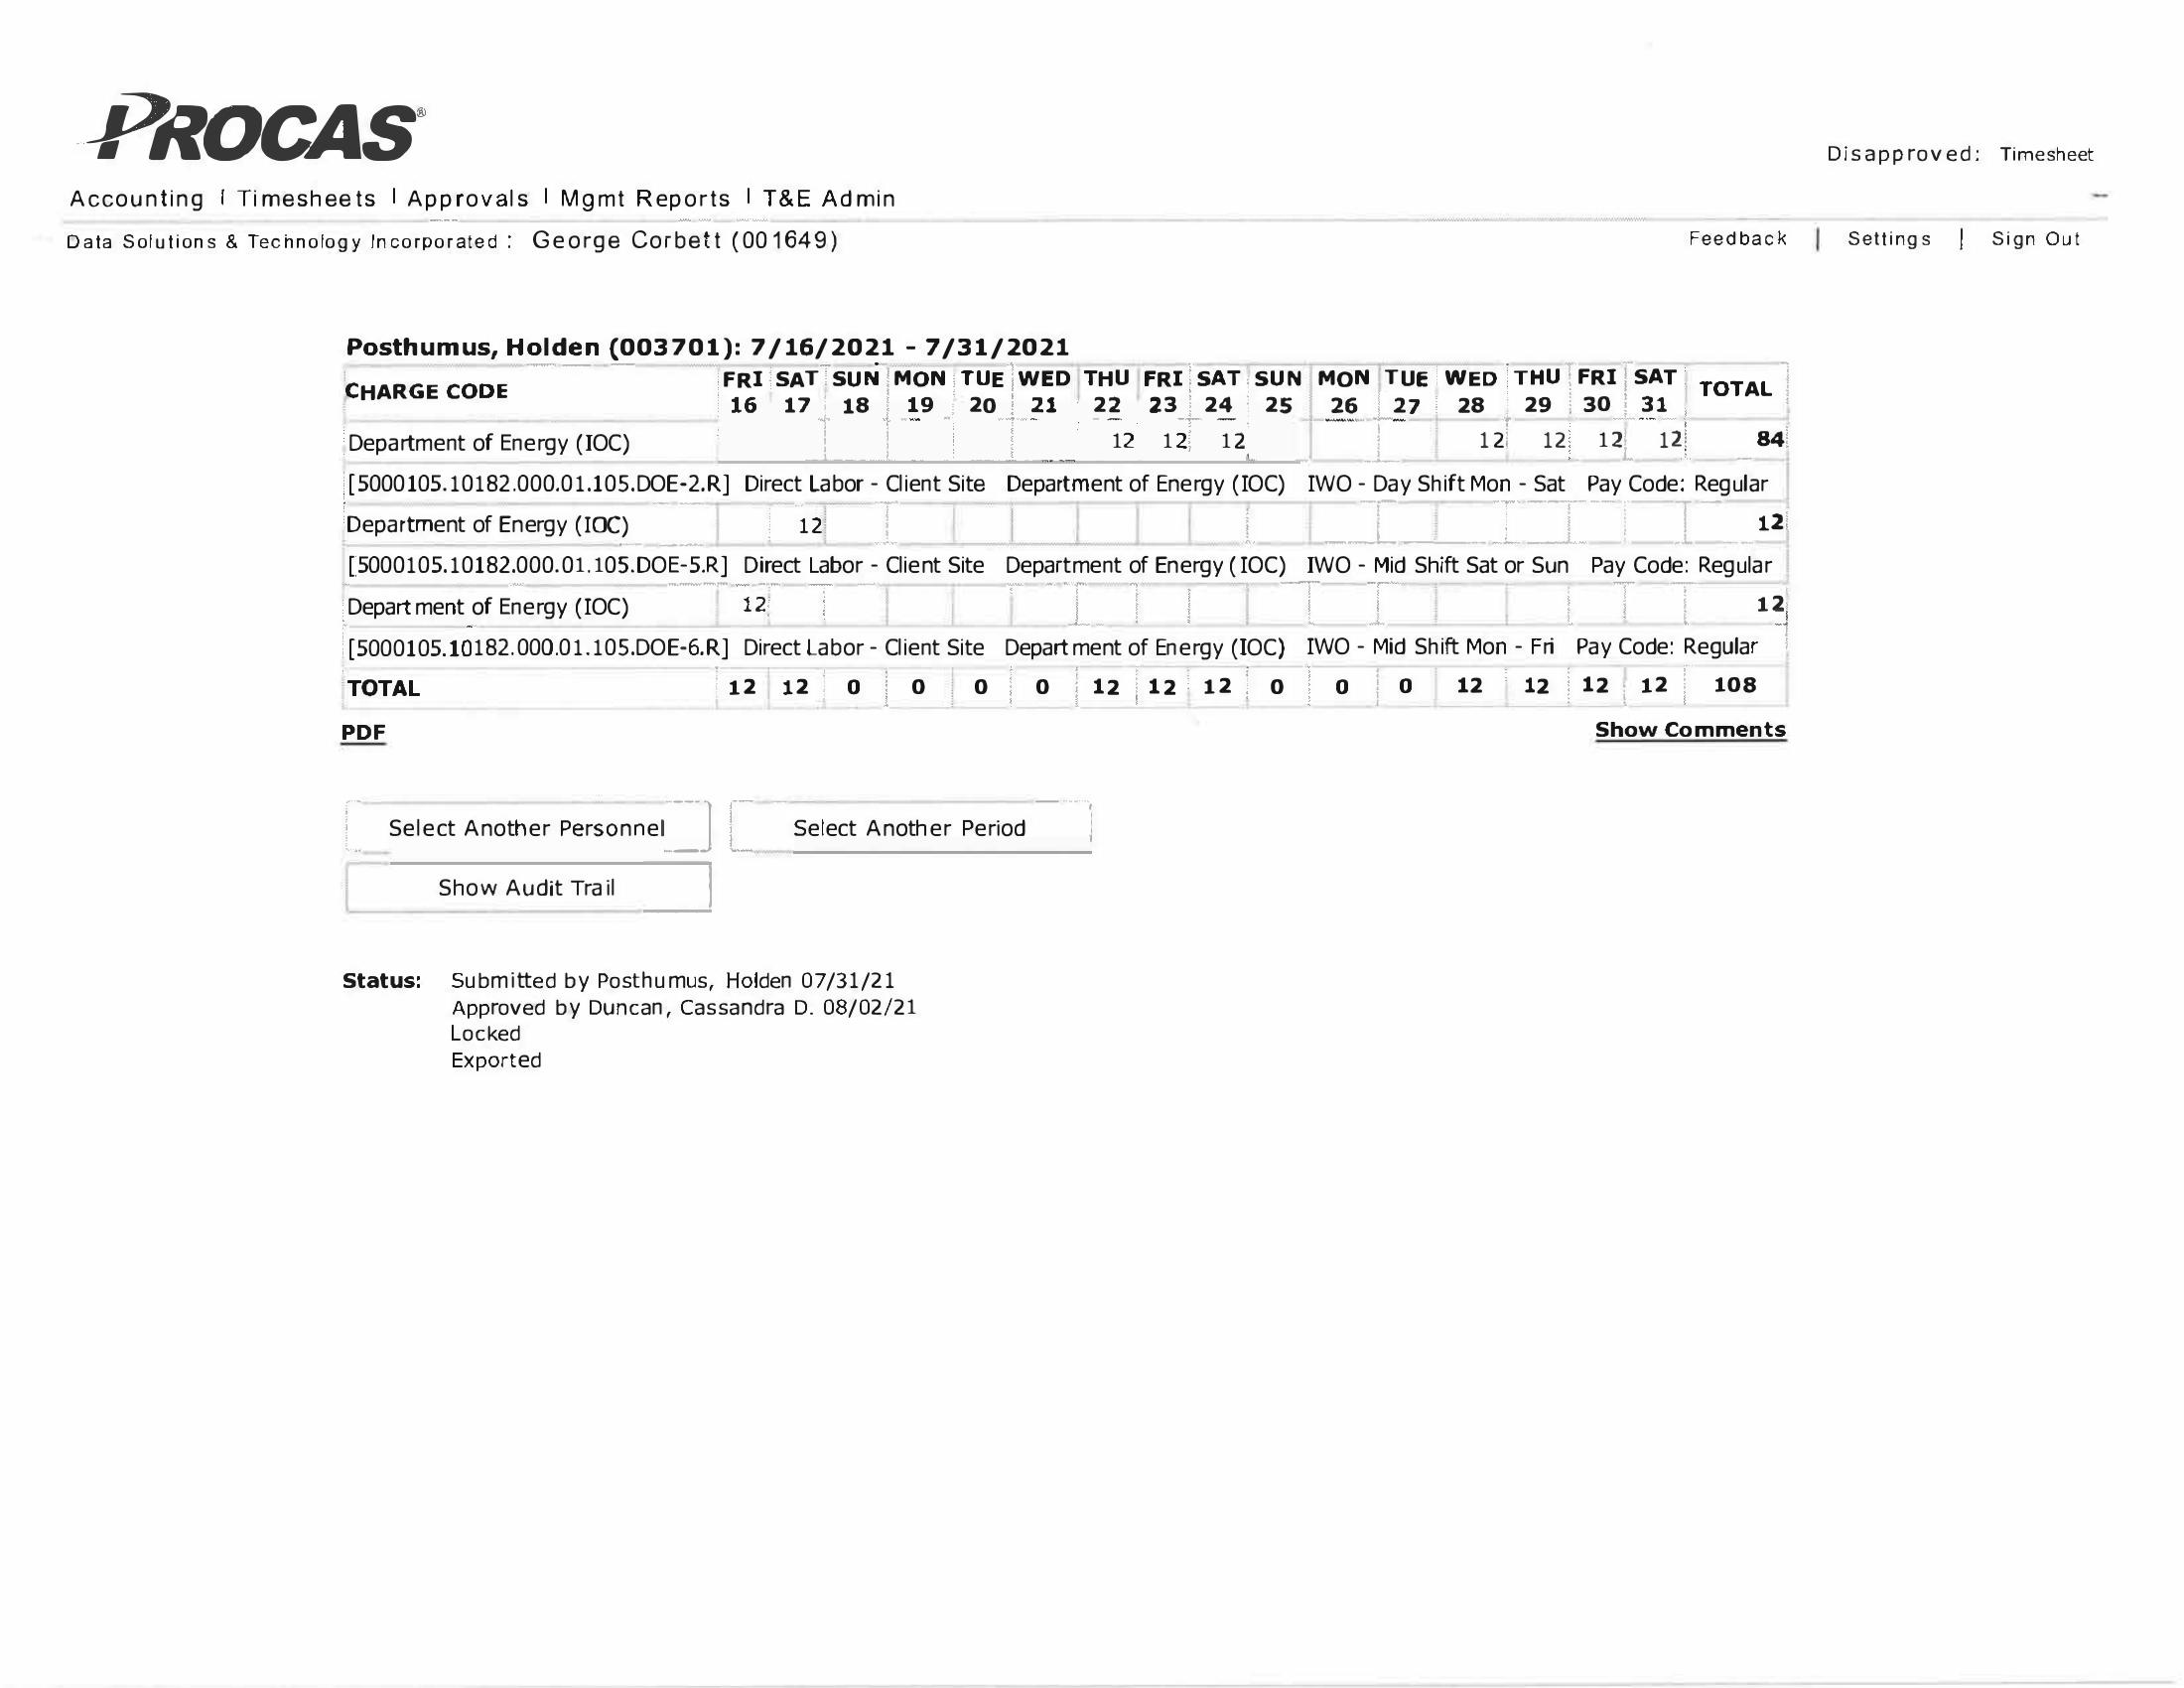table: (337, 362, 1801, 716)
